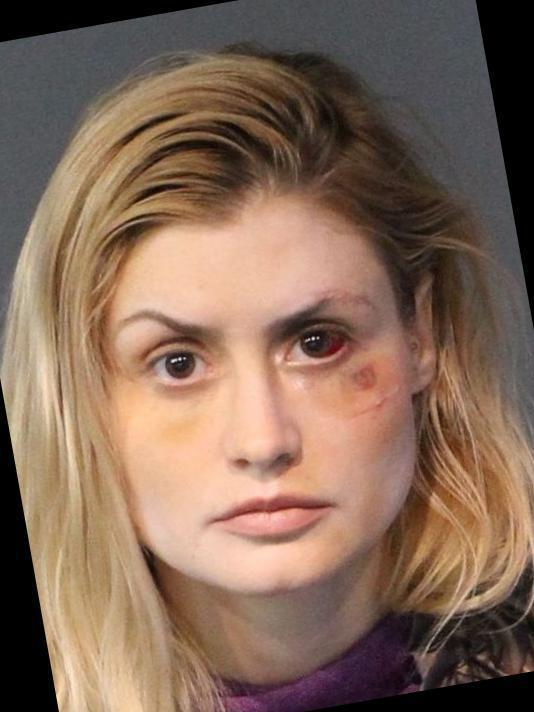Drunk: (104, 230, 402, 578)
